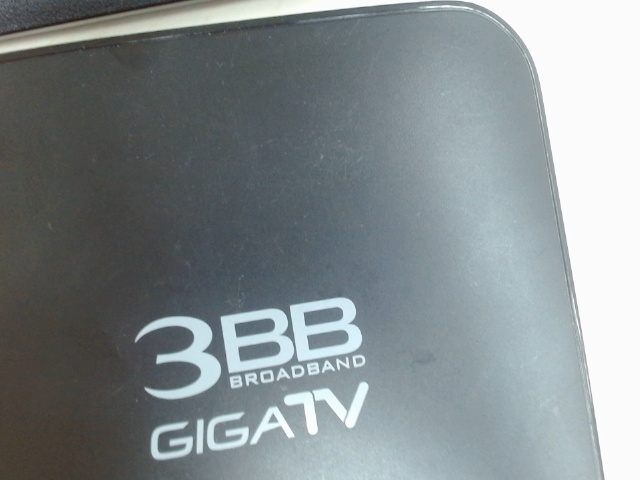AG_3BB: (119, 293, 387, 463)
